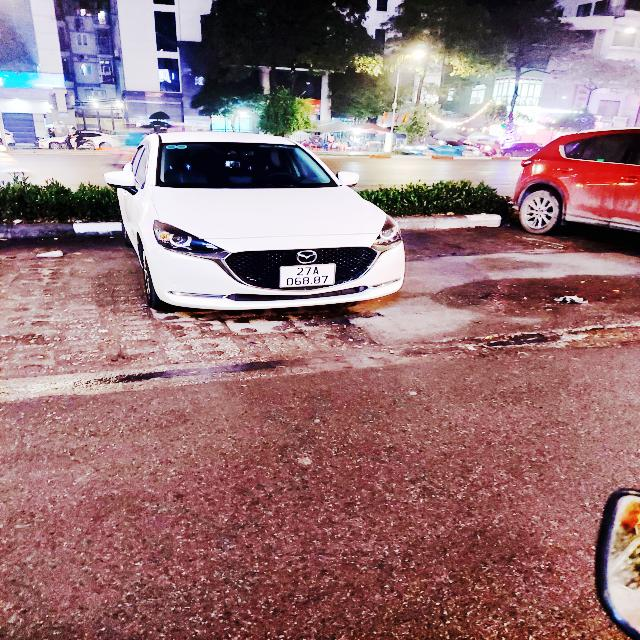license_plate: (277, 262, 339, 291)
